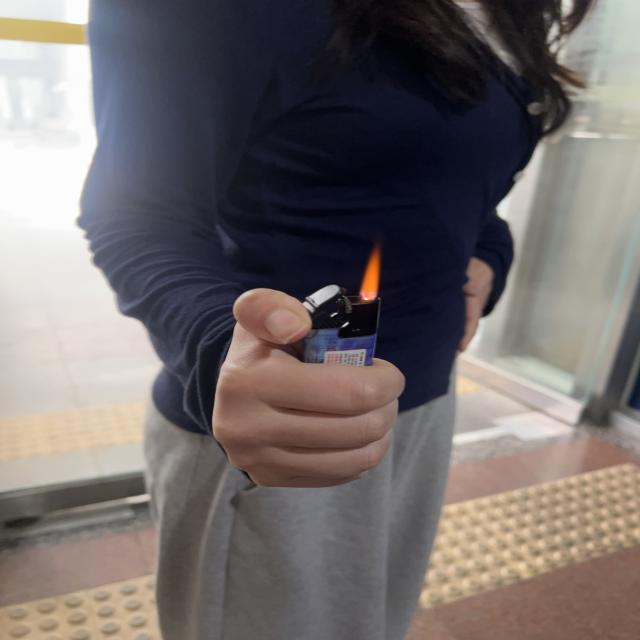fire: (358, 254, 382, 298)
